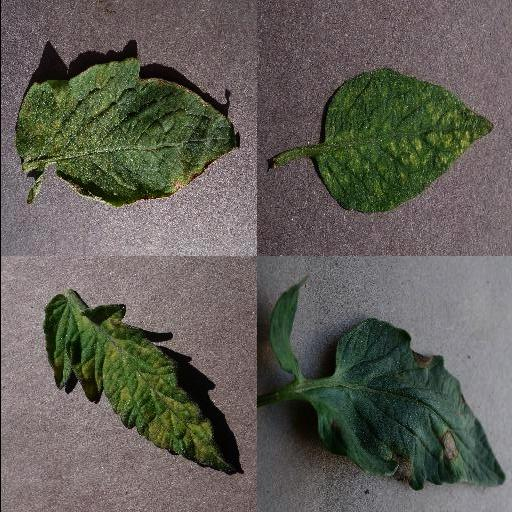Early Blight: (314, 319, 504, 491)
Leaf Mold: (42, 296, 232, 474)
Spider Mites: (14, 59, 240, 205), (317, 71, 495, 213)
